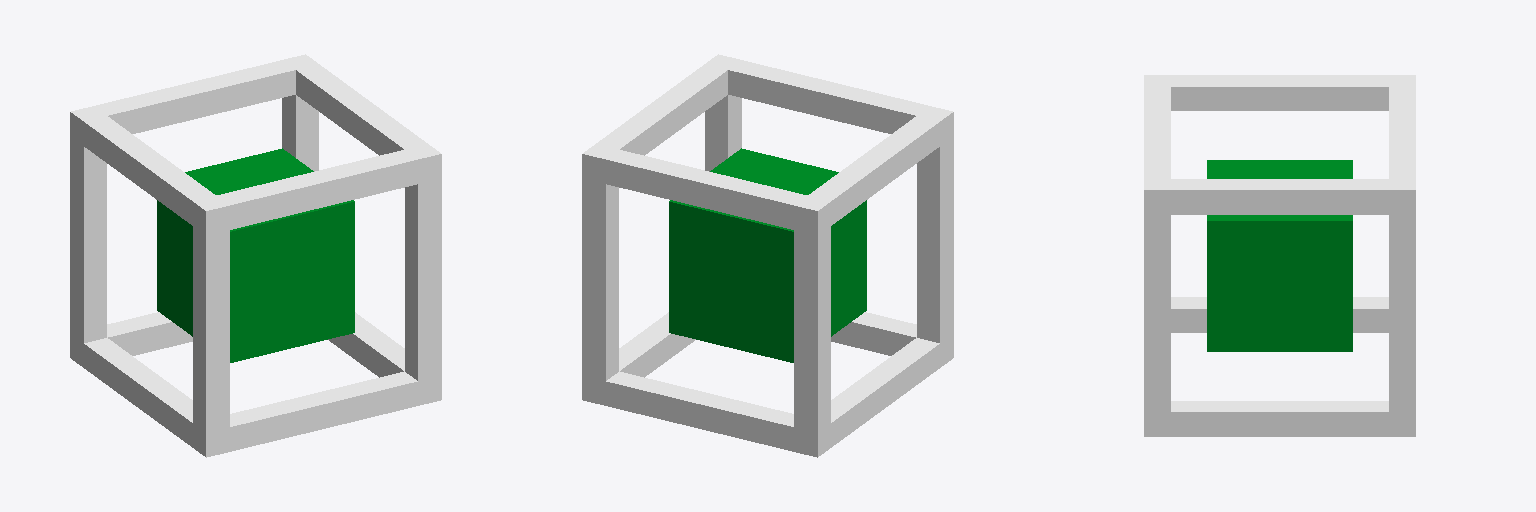
3 renders of one model, left to right at view 1: azimuth 30°, elevation 25°; view 2: azimuth 150°, elevation 25°; view 3: azimuth 270°, elevation 25°, orthographic.
Visible parts, largest first — view 1: object 1; view 2: object 1; view 3: object 1.
Boxes of the visible parts, x1=… form: object 1: x1=70, y1=54, x2=441, y2=457; object 1: x1=582, y1=54, x2=953, y2=457; object 1: x1=1144, y1=75, x2=1415, y2=436.
Bounding box in the file's own units: 3 × 3 × 3.
1 materials, 1 textured.